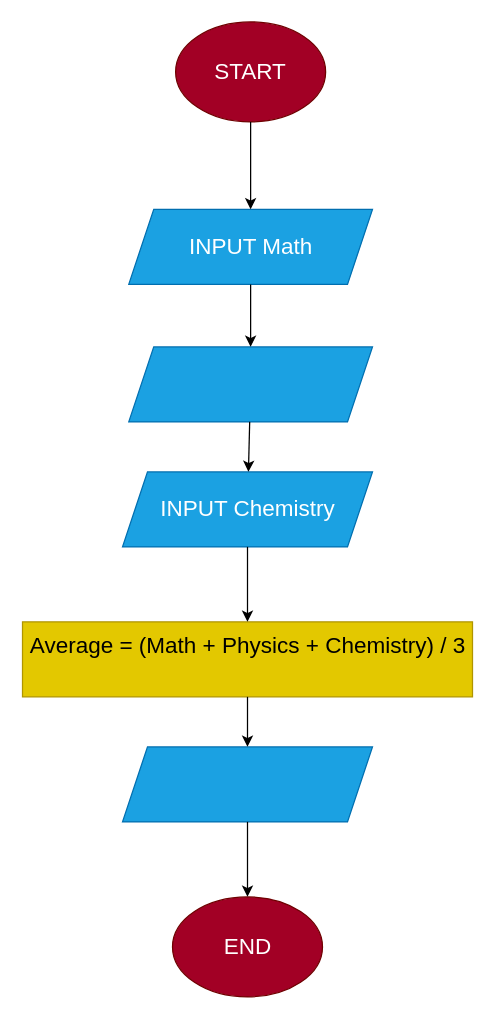
The diagram is 494 pixels wide and 1019 high, and some of its shapes have lost their labels. Each missing label, with the box of its shape:
INPUT Physics: (128, 346, 372, 422)
PRINT OUTPUT: (121, 746, 372, 822)
